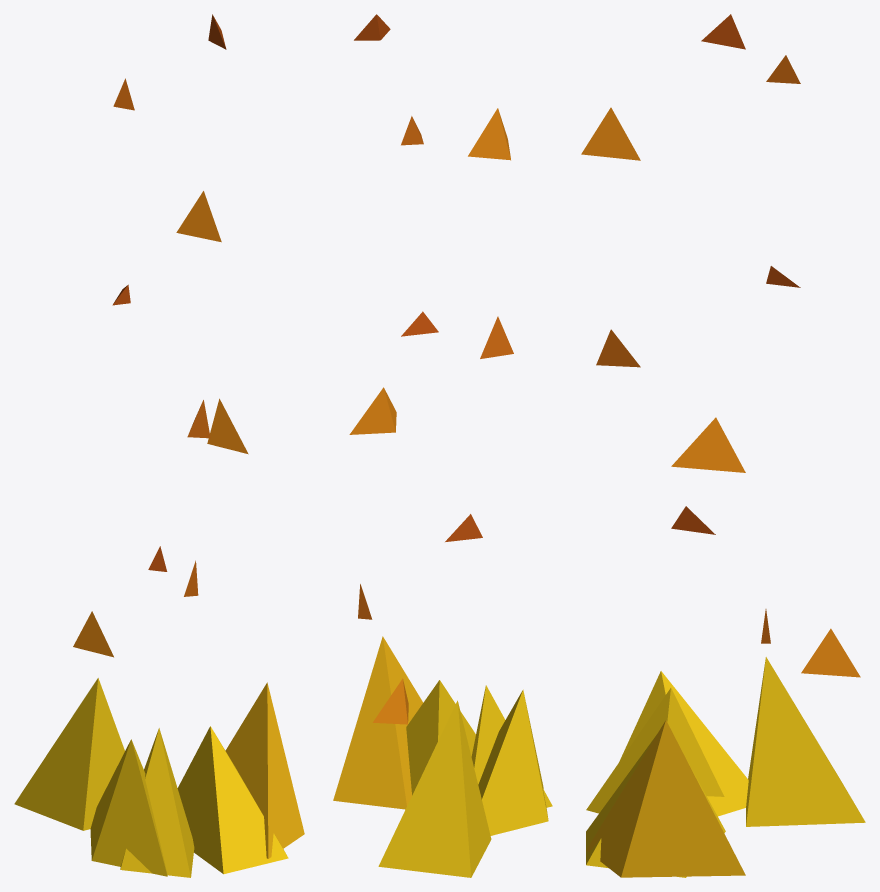
File: obj_fire_wall_1_1.obj
3 renders of one model, left to right at view 1: azimuth 30°, elevation 25°; view 2: azimuth 150°, elevation 25°; view 3: azimuth 270°, elevation 25°, orthographic. The views are drawn at different scales.
Size of the model in its own units: 0.3594 by 1.46 by 0.4453.
